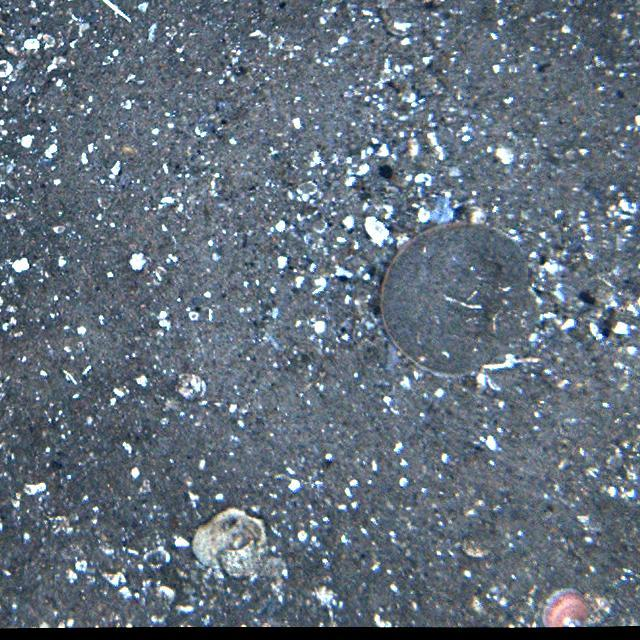scallop: (381, 218, 540, 376)
